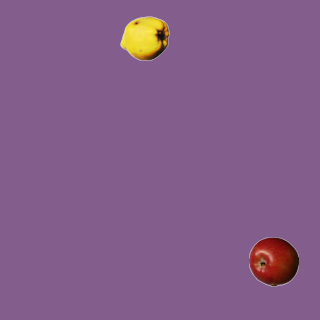Apple Braeburn: (248, 236, 298, 286)
Quince: (119, 13, 169, 63)
